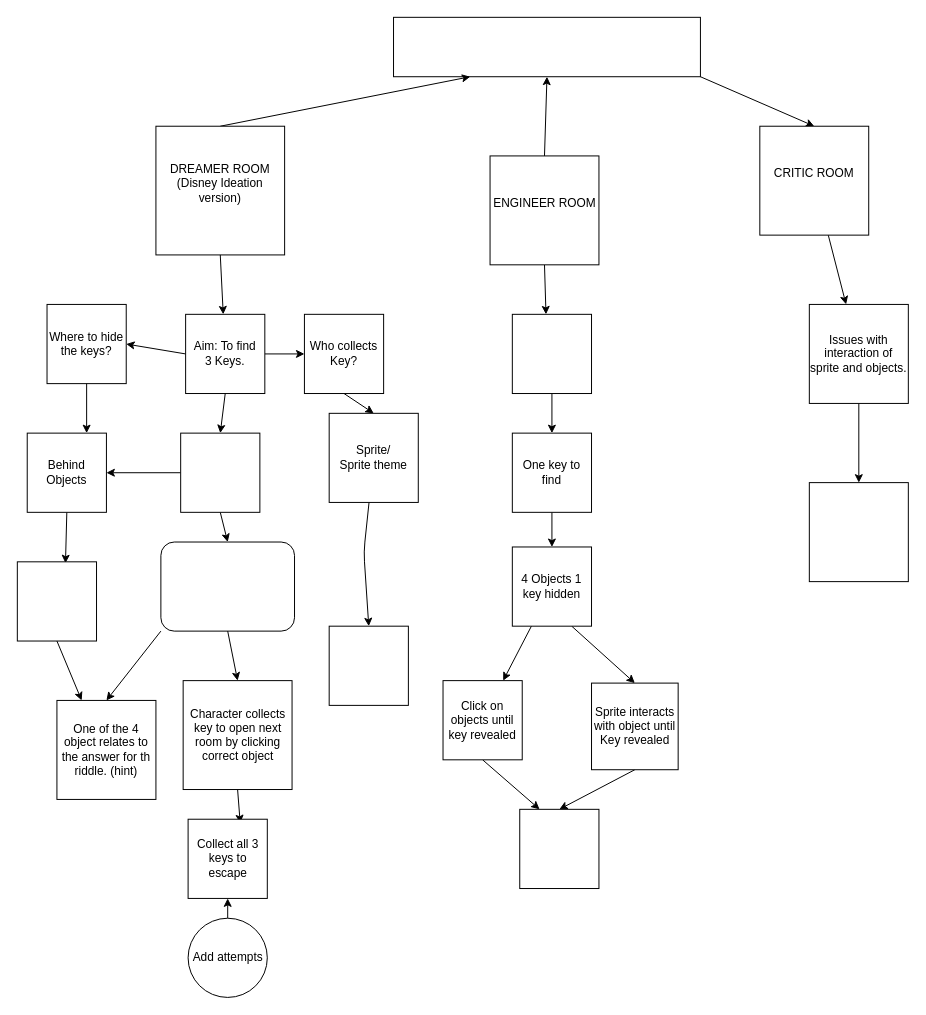
The diagram is 926 pixels wide and 1015 high, and some of its shapes have lost their labels. The centre of each missing label's shape, as x and y in pixels:
1 Key per room: the point at 220,472
4 Objects 1 key per room: the point at 56,601
CREATE AN INTERACTIVE ESCAPE ROOM: the point at 546,46
Figure out riddle to discover location of Key: the point at 227,586
One room: the point at 551,353
Sprite exit stage: win: the point at 559,848
Sprite placed inside box (room): the point at 368,665
When Key found Sprite needs to exit stage/box: the point at 858,532
